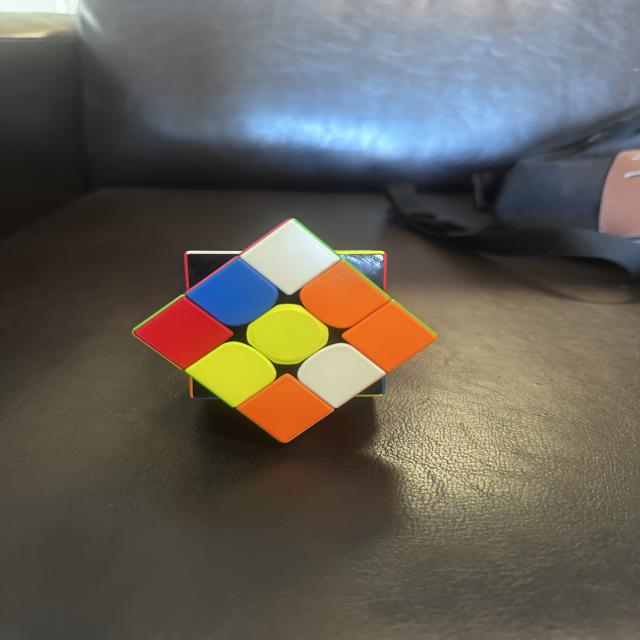sticker: (240, 220, 343, 296), (133, 294, 234, 370), (235, 372, 335, 443), (343, 300, 438, 373), (187, 257, 279, 327), (299, 260, 390, 329), (186, 341, 277, 408), (296, 343, 386, 410), (246, 303, 330, 366)
